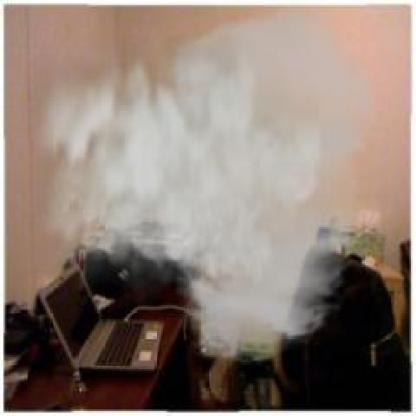Smoke: (18, 0, 381, 366)
